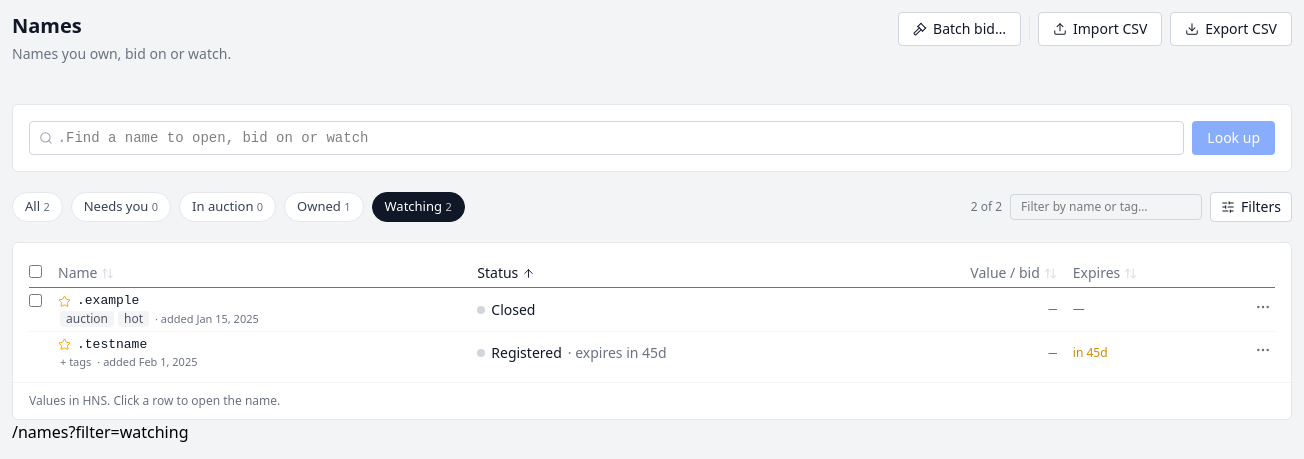
Test: NamesView — watchlist › row click opens the name's page
Click the row ".example auction hot · added Jan 15, 2025 Closed — —". click: (652, 309)
box: [29,288,1275,331]
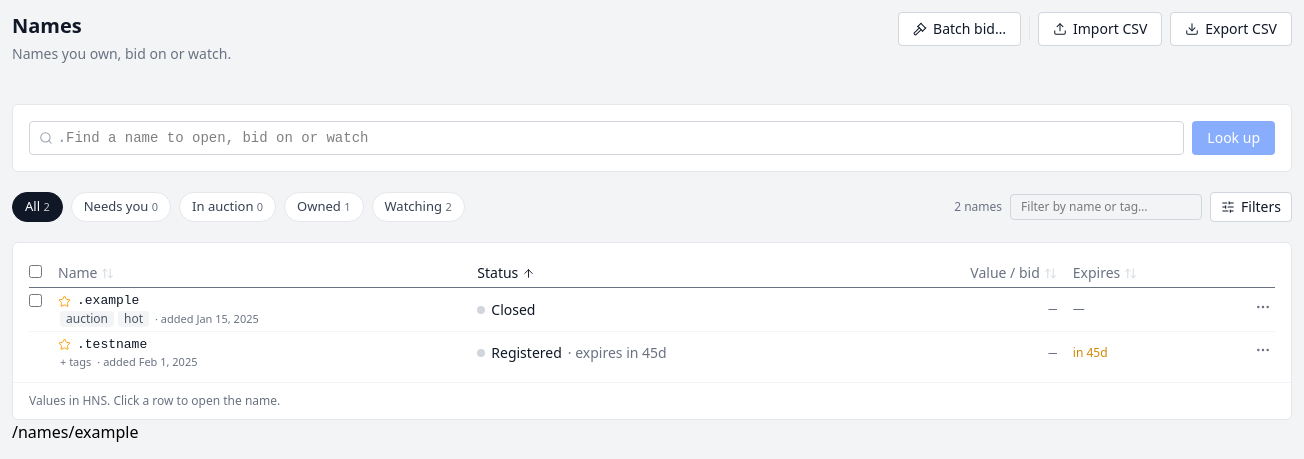
Now the text with test id "location" reads "/names/example", box [12,421,138,443]
